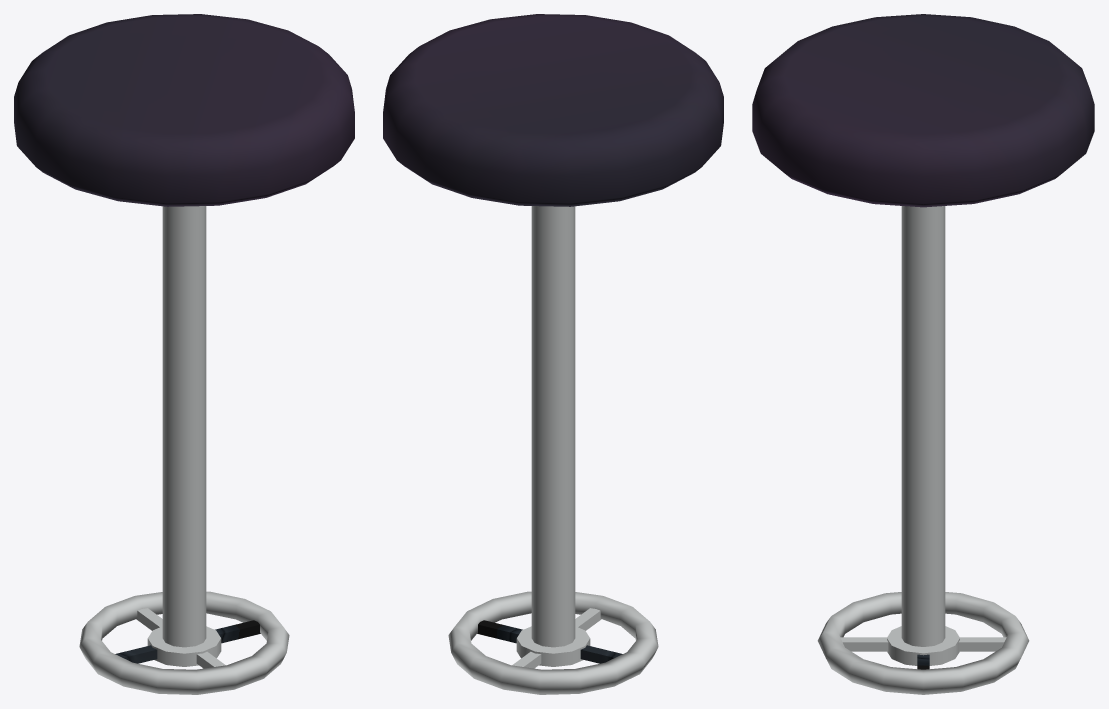
The model's file is Mesh_BarStool_NoBackRest.fbx.
3 renders of one model, left to right at view 1: azimuth 30°, elevation 25°; view 2: azimuth 150°, elevation 25°; view 3: azimuth 270°, elevation 25°, orthographic.
Parts seen in each view (by area): view 1: BarStool_NoBackRest; view 2: BarStool_NoBackRest; view 3: BarStool_NoBackRest.
Boxes of the visible parts, left/top/right/bottom form: BarStool_NoBackRest: left=14, top=14, right=354, bottom=694; BarStool_NoBackRest: left=383, top=14, right=723, bottom=694; BarStool_NoBackRest: left=752, top=14, right=1094, bottom=694.
Size of the model in its own units: 0.5338 by 0.993 by 0.5338.
